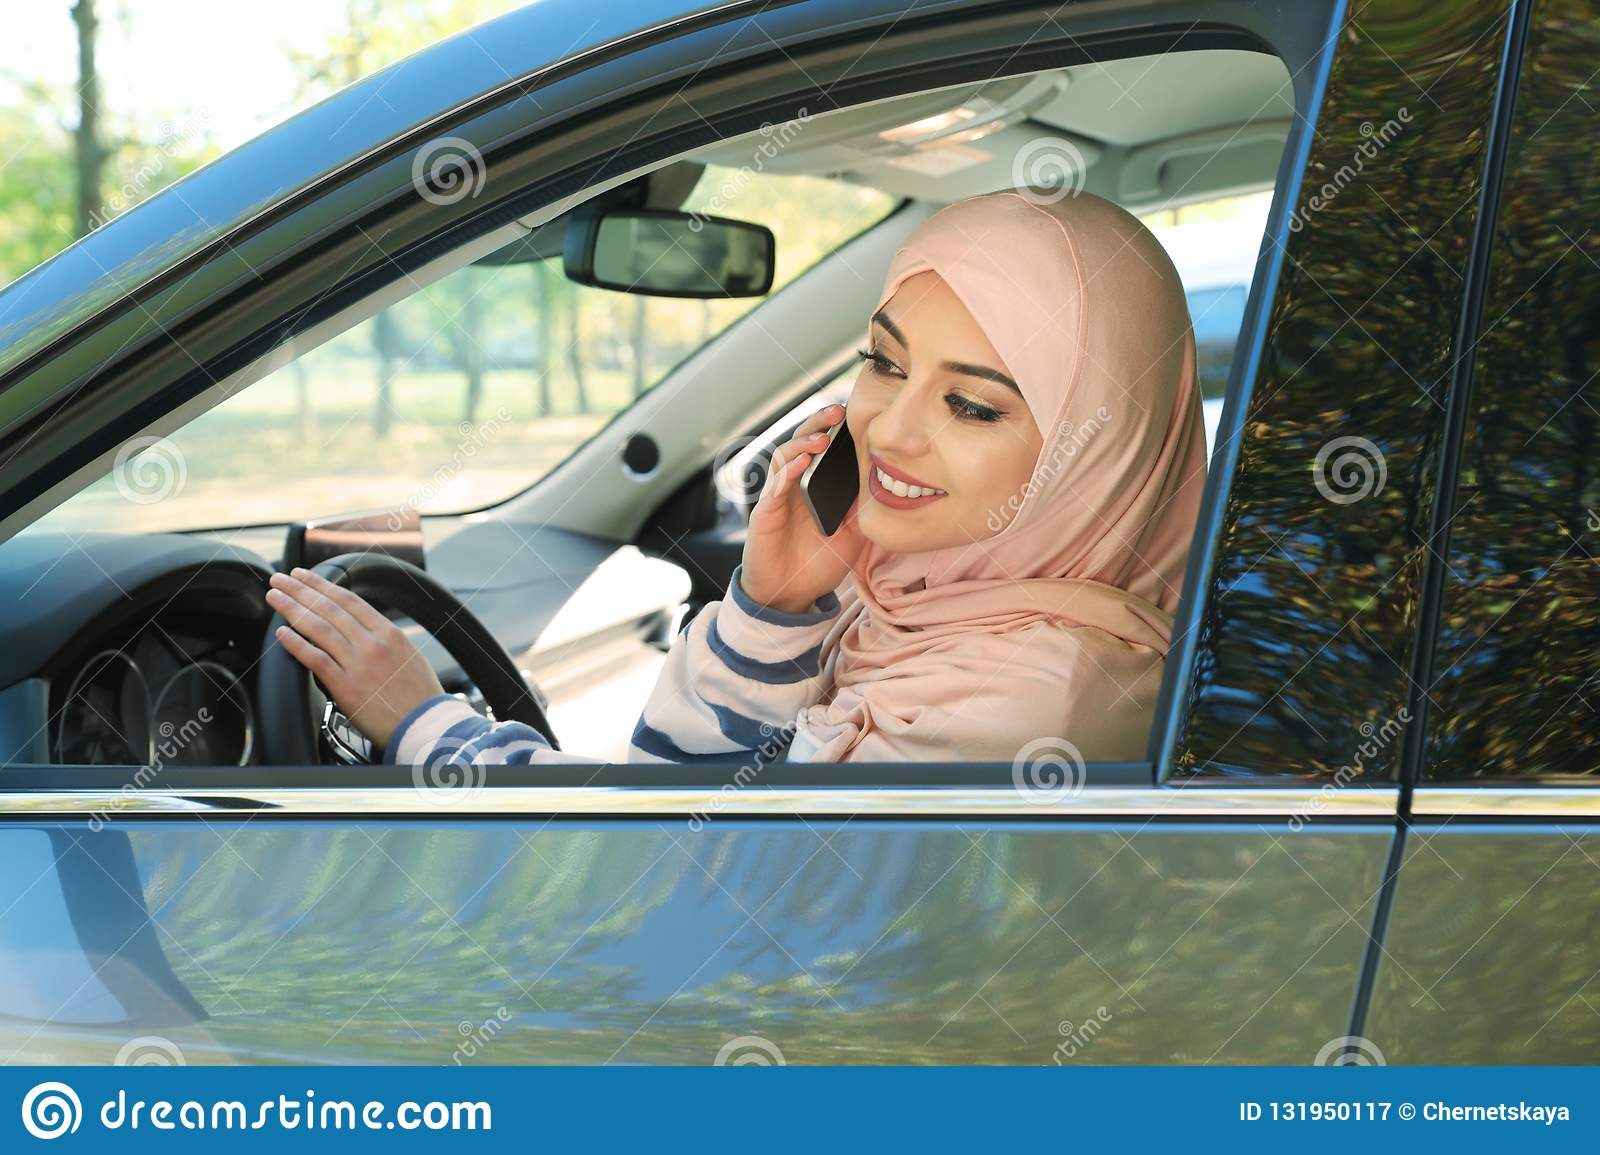phone: (801, 409, 868, 538)
talk: (737, 294, 1029, 604)
